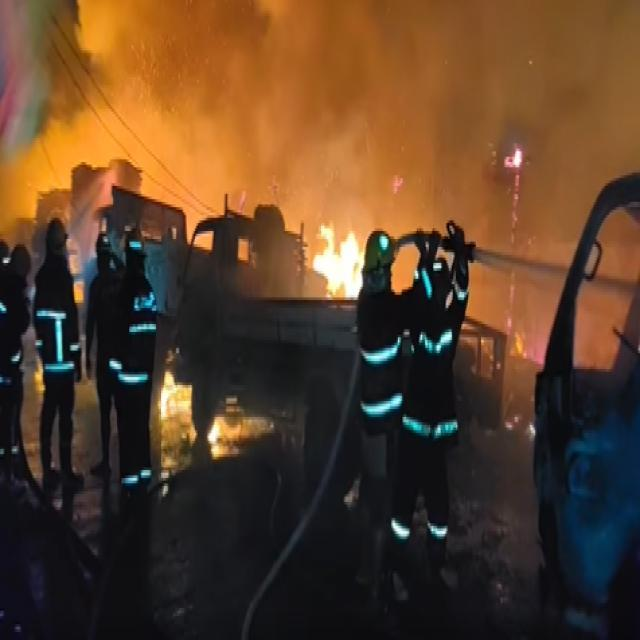Fire: (313, 218, 366, 301)
